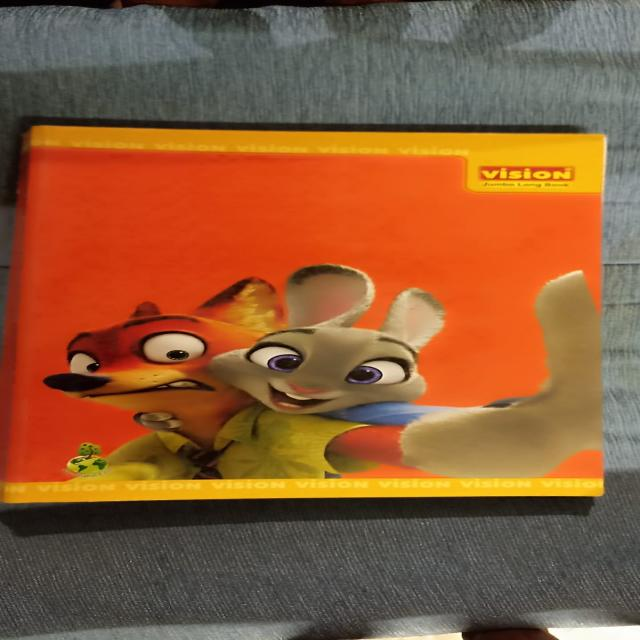book: (9, 117, 614, 514)
